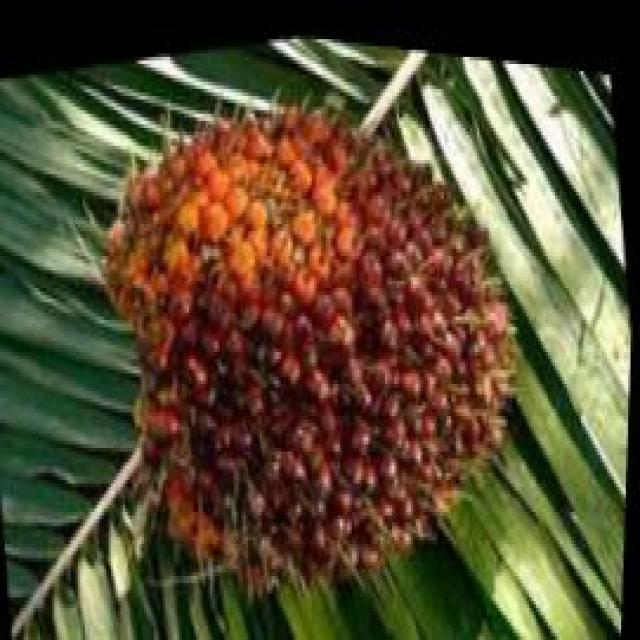Ripefruit: (83, 21, 550, 640)
